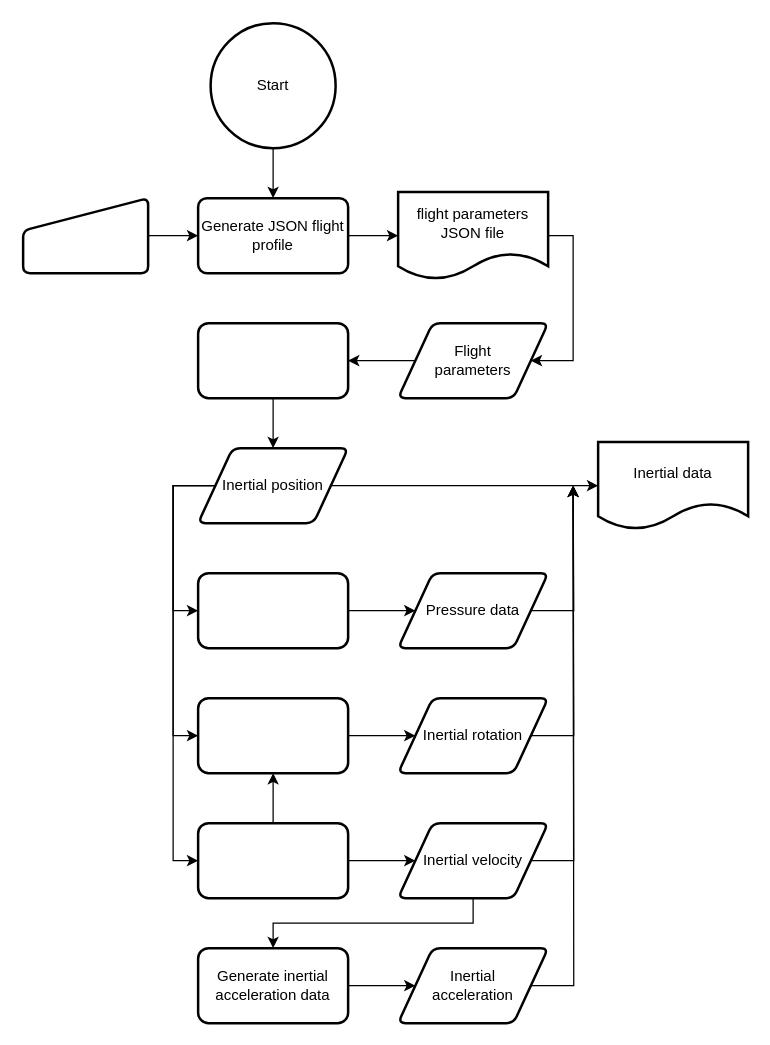
This 770x1045 diagram has some shape labels left out. Here are the shapes that lost their labels. From the top down, the centre of each, then its label:
[85,235]: User defined parameters
[272,360]: Generate inertial position data
[272,610]: Generate pressure data
[272,735]: Generate inertial rotation data
[272,860]: Generate inertial velocity data
